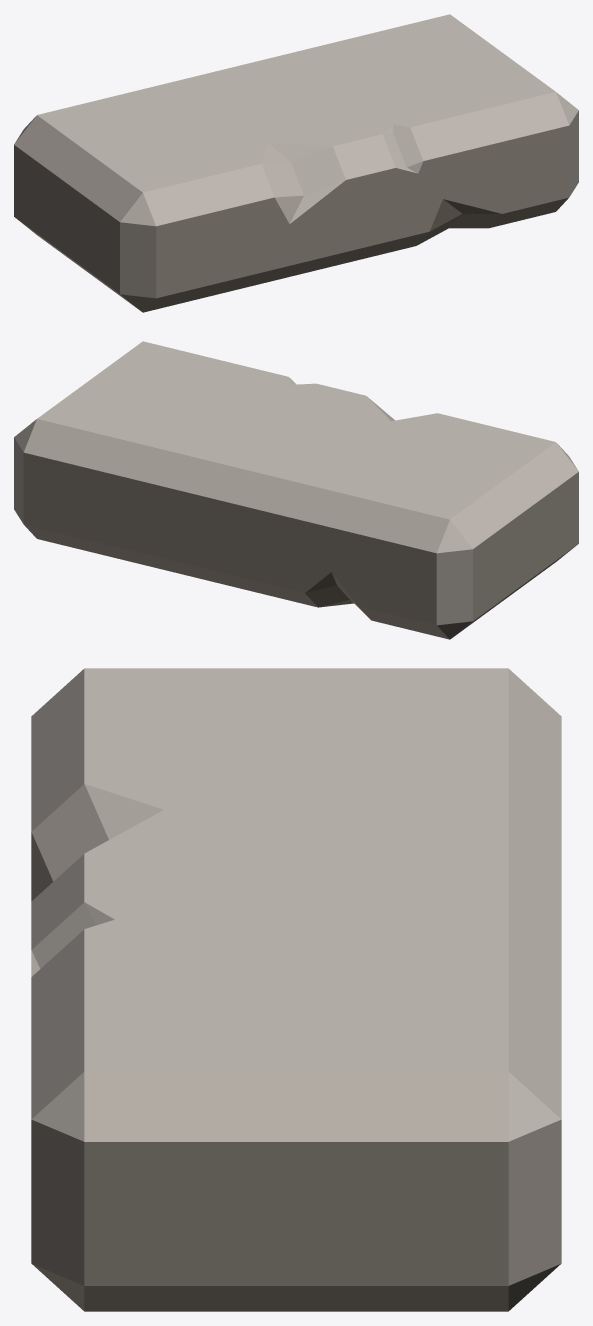
The model's file is m_kub_stone_flatBrick.FBX.
3 views of the same model, one above another, from view 1: azimuth 30°, elevation 25°; view 2: azimuth 150°, elevation 25°; view 3: azimuth 270°, elevation 25° (orthographic). The views are drawn at different scales.
Visible parts, largest first — view 1: m_kub_stone_flatBrick; view 2: m_kub_stone_flatBrick; view 3: m_kub_stone_flatBrick.
Boxes of the visible parts, x1,y1,x2,y2 form: m_kub_stone_flatBrick: (14, 14, 578, 312); m_kub_stone_flatBrick: (14, 341, 578, 639); m_kub_stone_flatBrick: (31, 668, 561, 1311).
Size of the model in its own units: 2 by 0.5 by 1.
